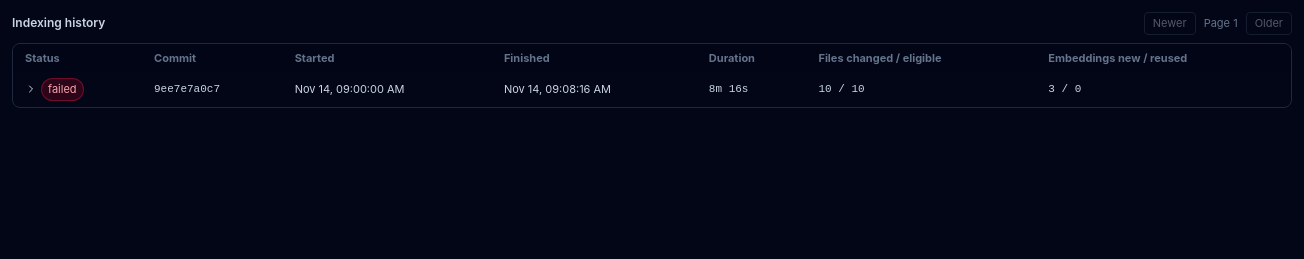
Test: JobHistory › disables retry while another job is active
Step 1. Click the button with aria-label "Show details of job job-bad" → (54, 89), box [25,78,84,100]
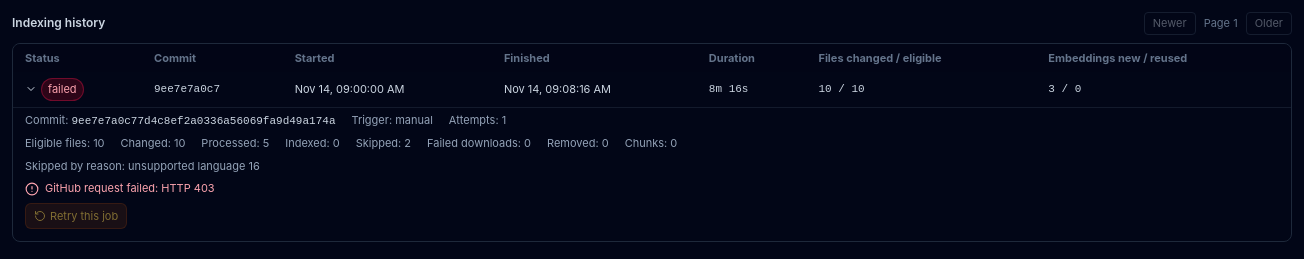
Result: the button "Retry this job" is disabled at [25,202,127,229]
